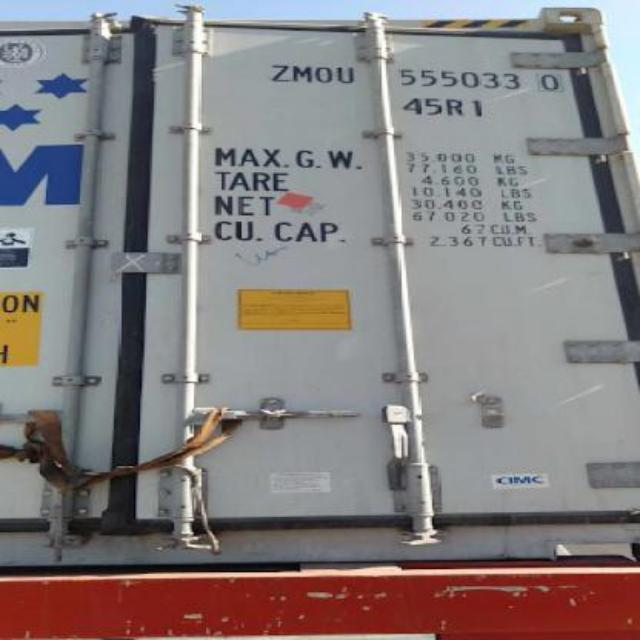0: (540, 75, 562, 91), (460, 71, 480, 87)
3: (501, 73, 522, 91), (482, 72, 501, 88)
5: (400, 68, 418, 86), (420, 69, 438, 87), (440, 70, 458, 86)
M: (292, 65, 314, 81)
O: (316, 66, 334, 82)
U: (336, 67, 356, 85)
Z: (272, 62, 292, 82)
